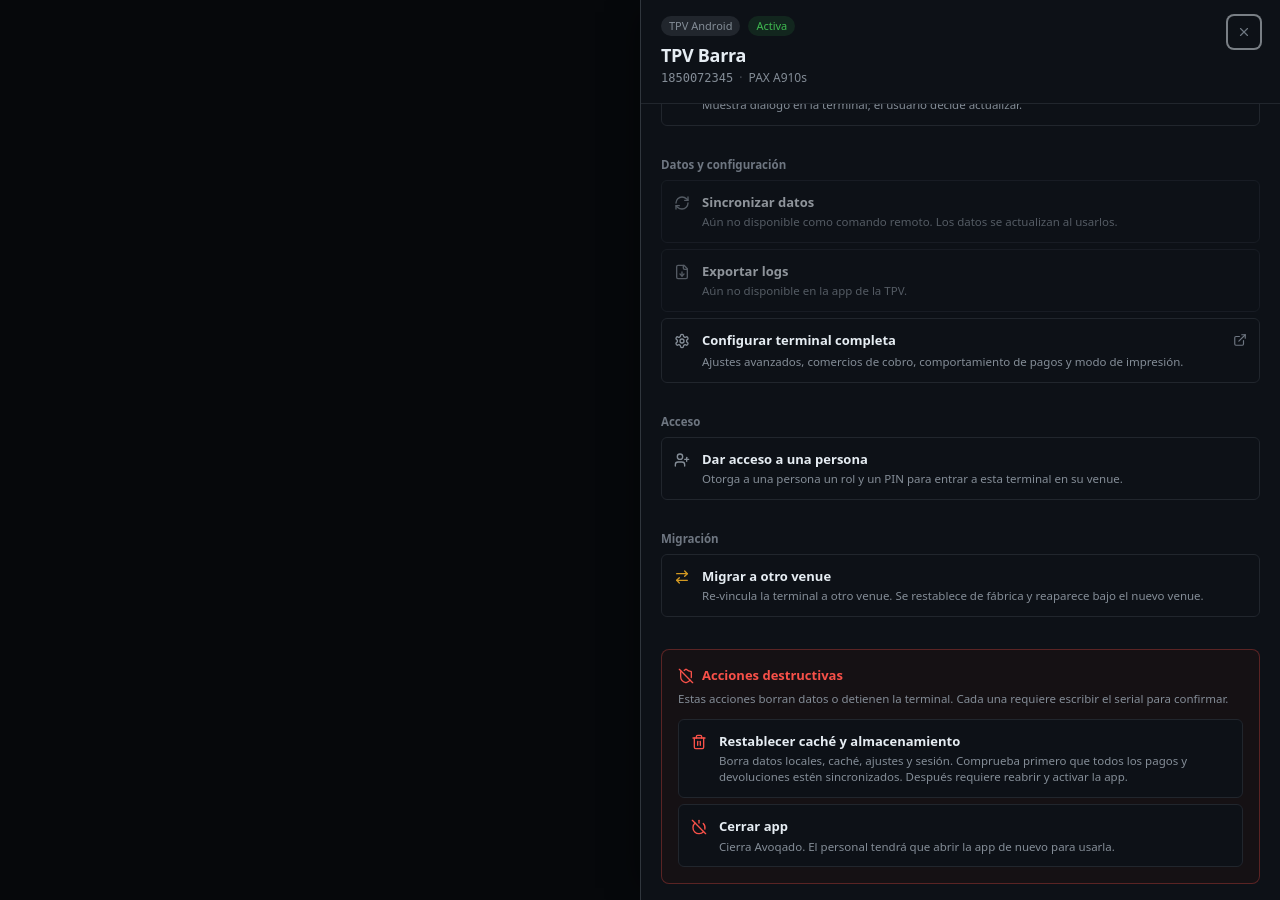
Scenario: TerminalActionDrawer › permite cancelar el flow de confirmación danger
(page scrolled)
Click the text "Cerrar app".
click(754, 826)  # box [719,817,788,835]
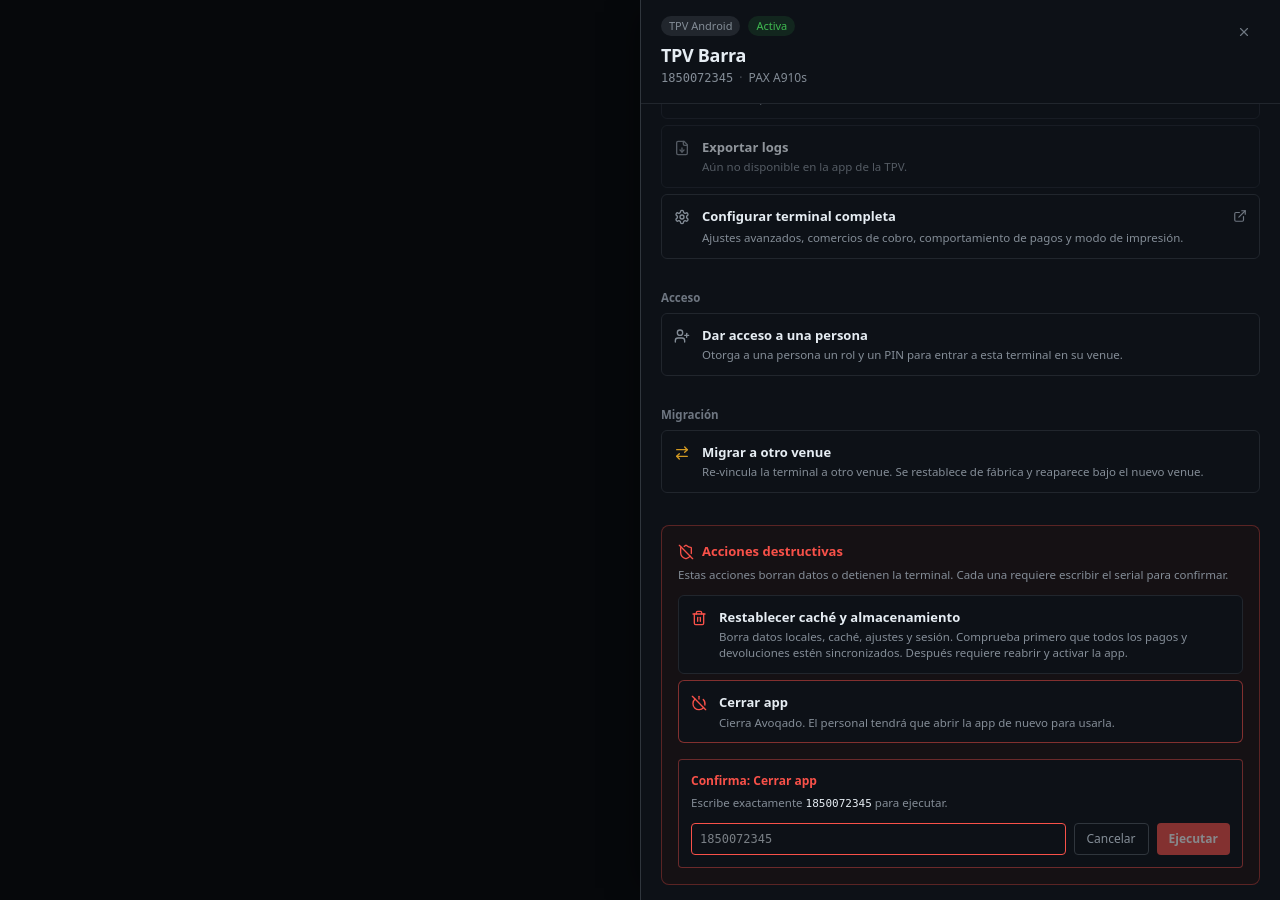
Now the text "Confirma: Cerrar app" is shown, box [691,772,817,789]
Note: Click cancelar
Click the button "Cancelar".
click(1111, 839)  # box [1074,823,1148,855]
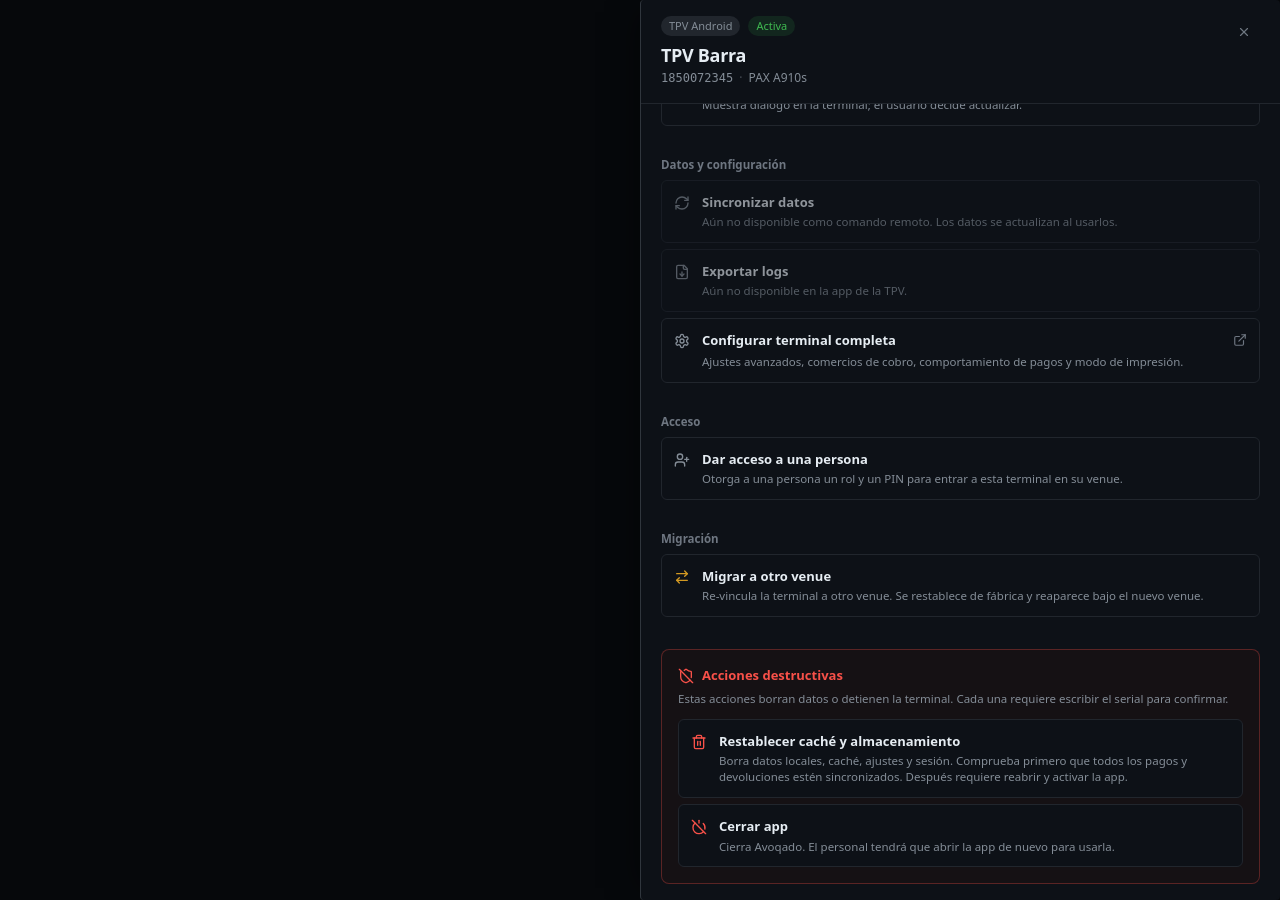
Now the text "Confirma: Cerrar app" is gone
